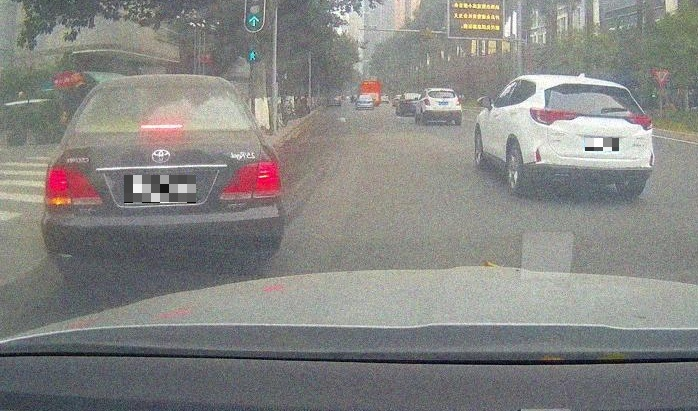L_light: (44, 167, 103, 206), (529, 107, 578, 125), (424, 99, 431, 106)
R_light: (221, 161, 281, 200), (625, 115, 652, 131), (455, 98, 461, 106), (438, 90, 445, 93)
T_light: (141, 122, 183, 130), (579, 83, 597, 89)
day-brake: (41, 73, 286, 280)
day-no: (528, 75, 655, 197), (423, 88, 462, 125)
plate_1: (124, 175, 196, 203)
plate_2: (585, 138, 619, 151)
